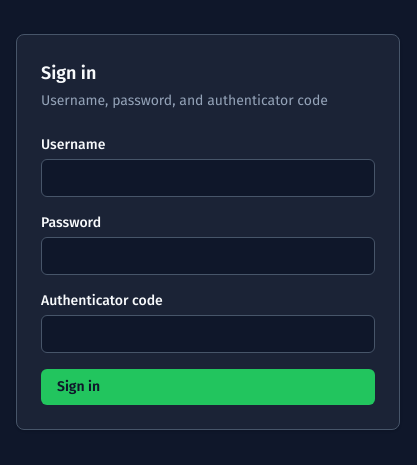
Test case: LoginPage › shows invalid credentials message on 401
In the field labelled "Username": (208, 178) [41,159,375,197], type "admin"
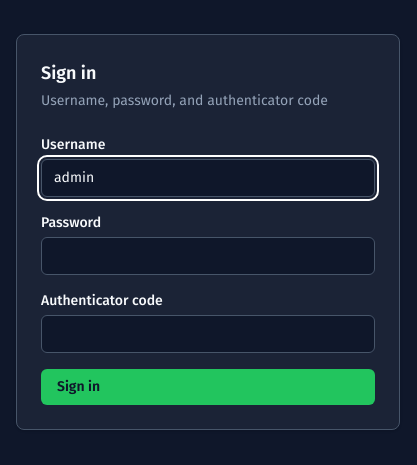
In the password field labelled "Password": (208, 256) [41,237,375,275], type "wrong"
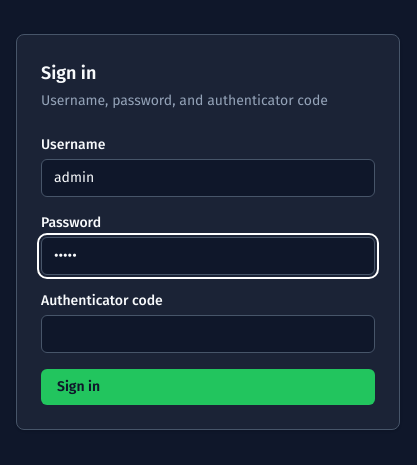
In the field labelled "Authenticator code": (208, 334) [41,315,375,353], type "123456"
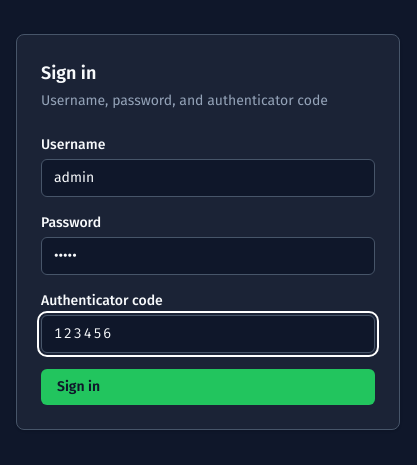
Click the button "Sign in": click(79, 386) [41,369,375,405]
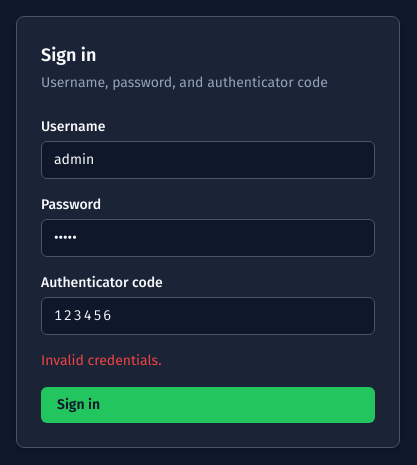
Now the text "Invalid credentials." is shown, box [41,352,162,369]
